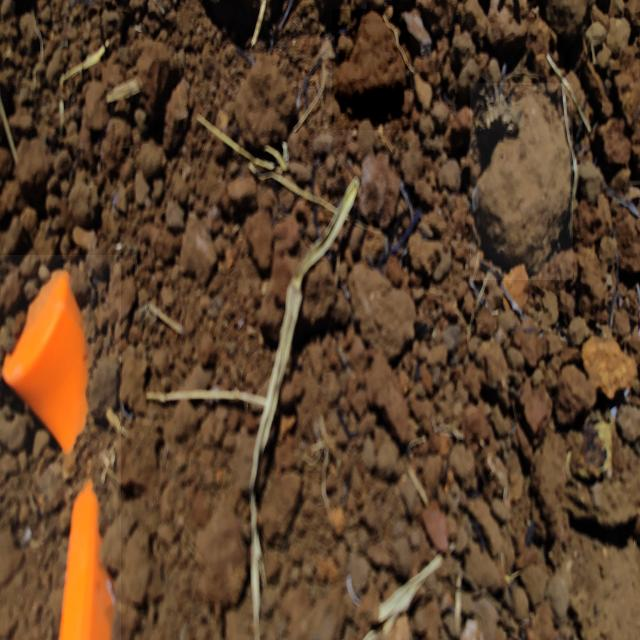Orange_hammer: (0, 255, 121, 640)
rock: (470, 83, 573, 280), (332, 9, 410, 130)
